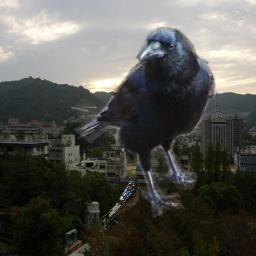Crow: (69, 19, 216, 219)
Swallow: (99, 181, 139, 232)
